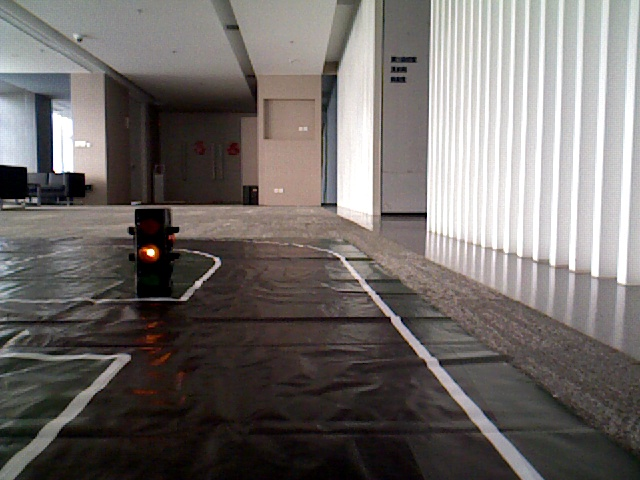yellow: (134, 212, 169, 290)
